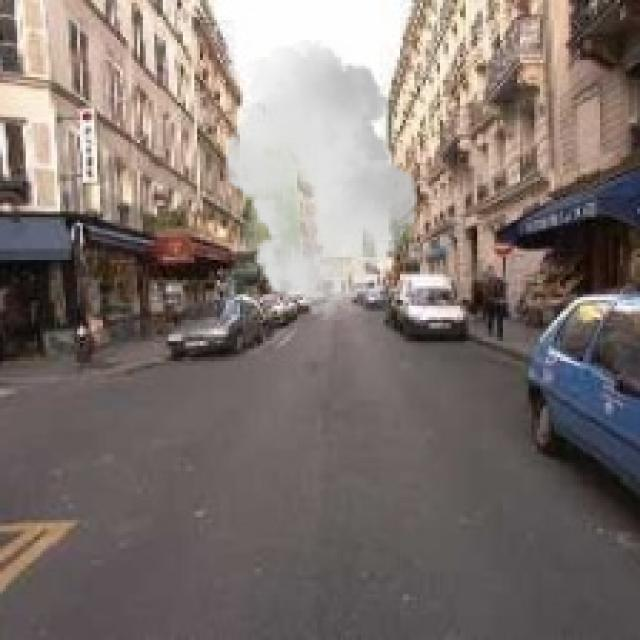Smoke: (217, 40, 426, 320)
